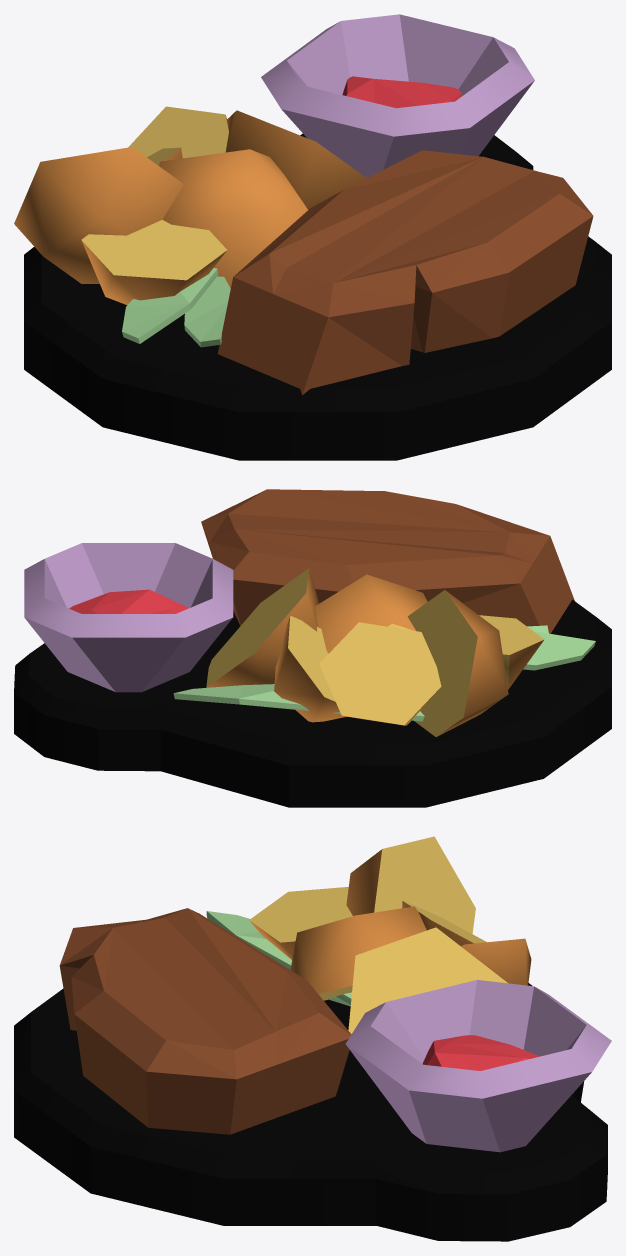
File: Teller_Steak.FBX
3 renders of one model, top to bottom at view 1: azimuth 30°, elevation 25°; view 2: azimuth 150°, elevation 25°; view 3: azimuth 270°, elevation 25°, orthographic. The views are drawn at different scales.
Parts seen in each view (by area): view 1: Steak; view 2: Steak; view 3: Steak.
Boxes of the visible parts, bbox=[...] form: Steak: bbox=[14, 14, 611, 460]; Steak: bbox=[14, 489, 611, 807]; Steak: bbox=[14, 836, 611, 1241].
Bounding box in the file's own units: 16.13 × 5.47 × 15.76.
